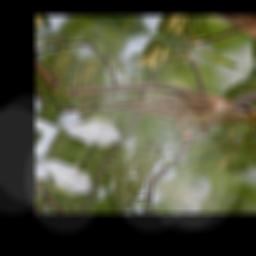Cuckoo: (53, 43, 256, 181)
